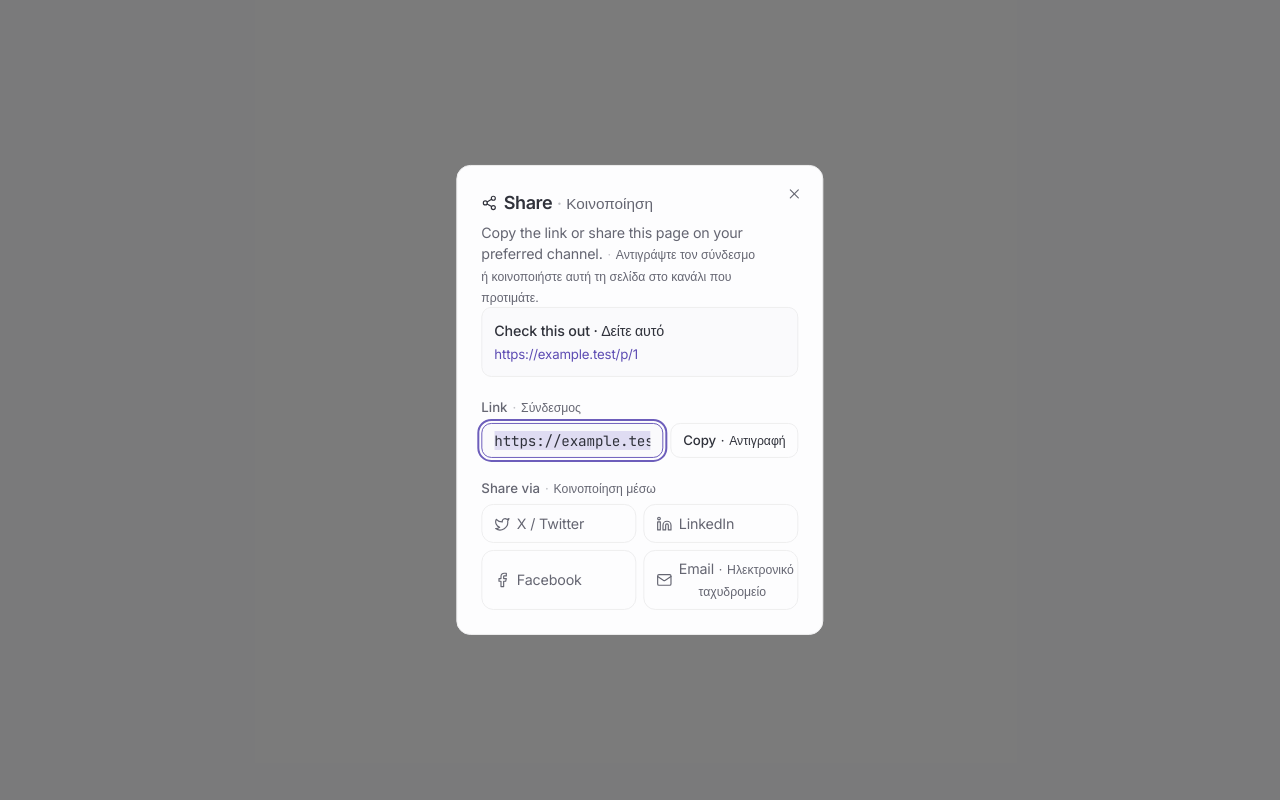
Test: ShareModal › reports failure when the fallback copy does not happen
What coordinates should you click on to do the following:
click the button "Copy·Αντιγραφή"
I would click on:
 (734, 440)
Its box is 670,422 -> 799,458.
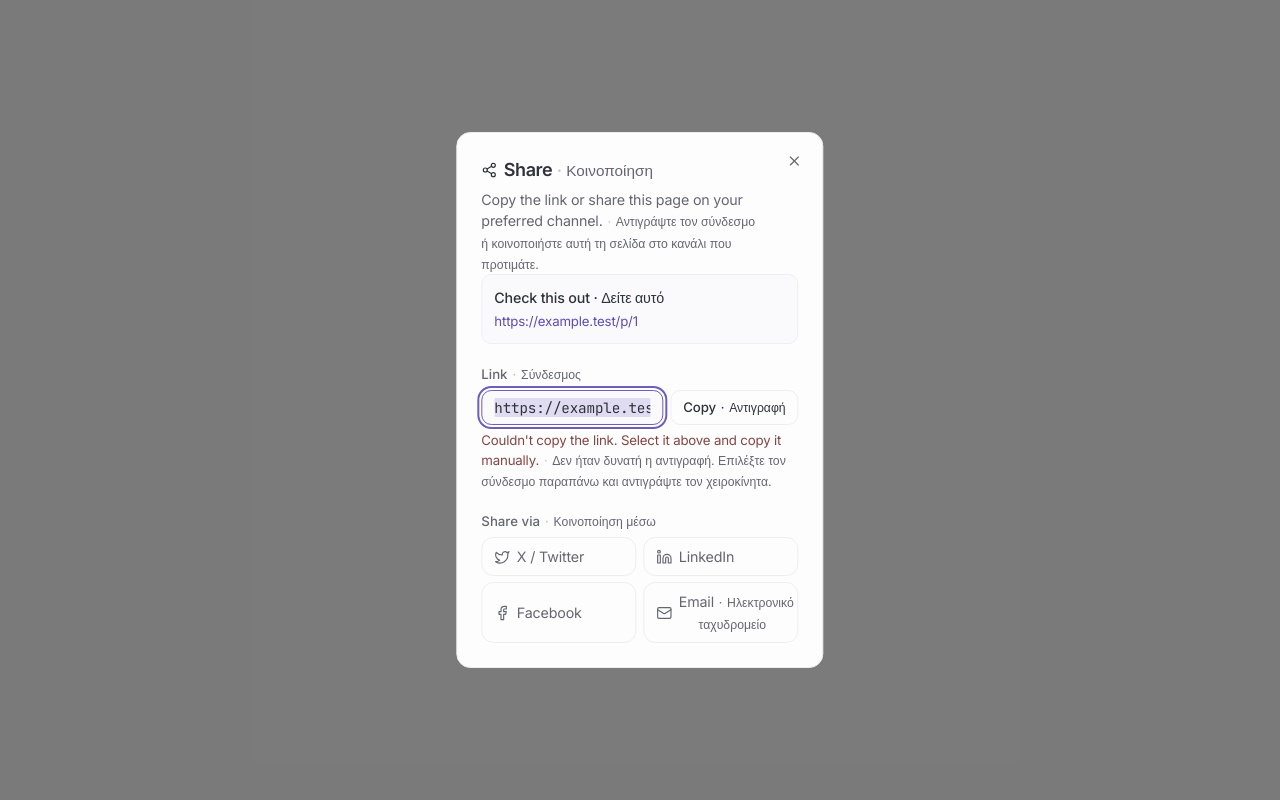
expect the message shows "Couldn't copy": met, box 481,432 -> 781,468
